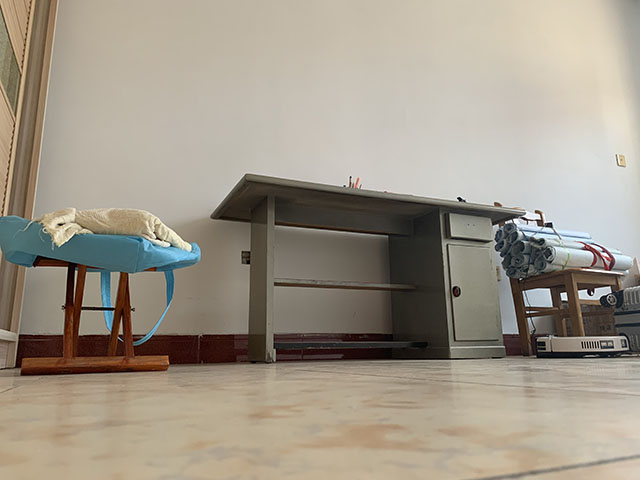stool: (493, 201, 628, 357), (19, 255, 174, 376)
table: (208, 172, 528, 365)
